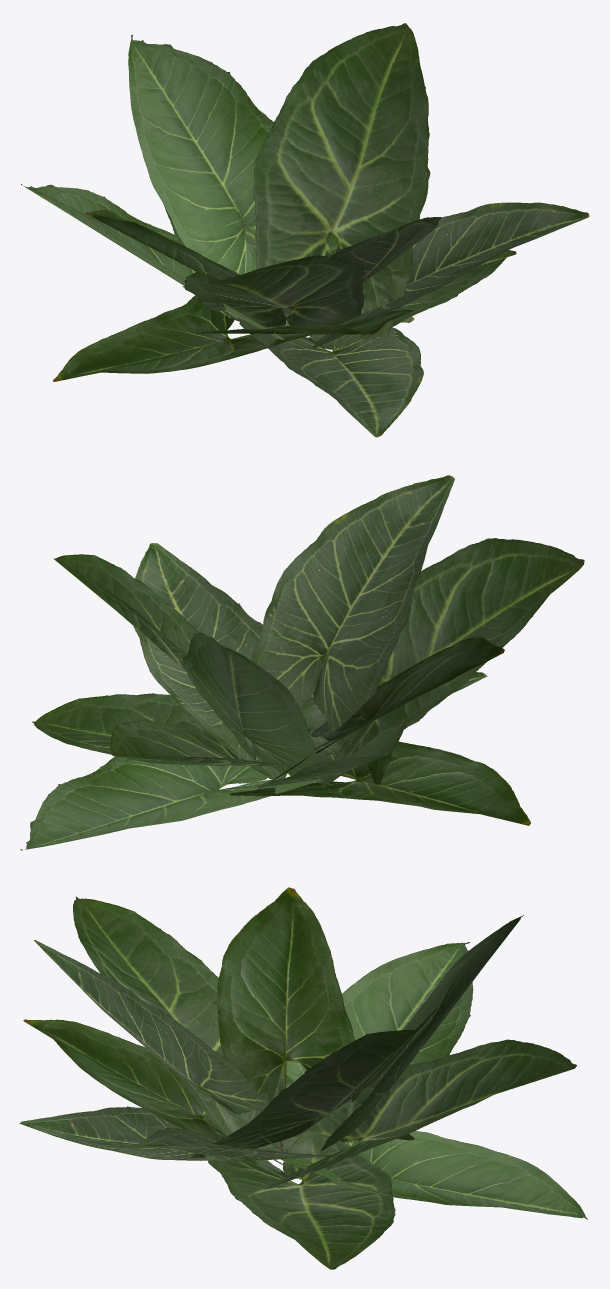
File: folliage_04.FBX
The picture shows the model from 3 angles, top to bottom: view 1: azimuth 30°, elevation 25°; view 2: azimuth 150°, elevation 25°; view 3: azimuth 270°, elevation 25°; orthographic projection.
Parts seen in each view (by area): view 1: Plant_d; view 2: Plant_d; view 3: Plant_d.
Boxes of the visible parts, x1,y1,x2,y2 form: Plant_d: (21,23,589,437); Plant_d: (20,475,584,850); Plant_d: (19,887,587,1269).
Bounding box in the file's own units: 15.25 × 7.11 × 15.59.
